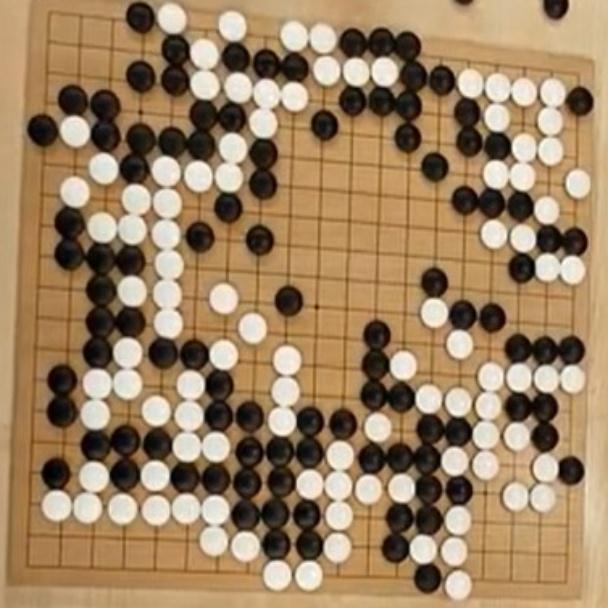corners: (10, 542, 48, 580), (546, 562, 586, 598), (31, 0, 67, 33), (568, 60, 596, 94)
